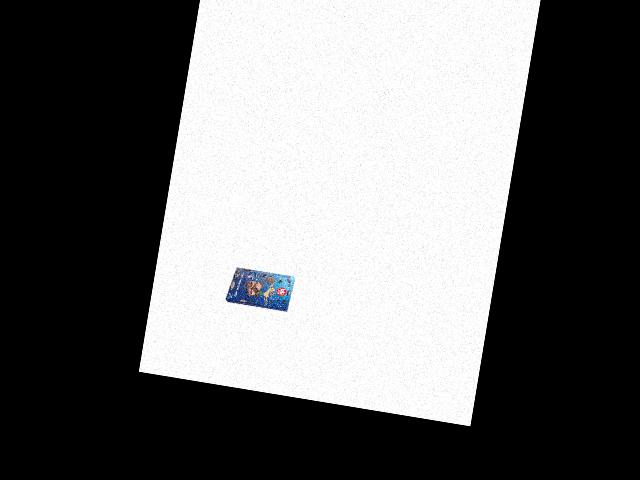chocolate: (224, 261, 297, 316)
